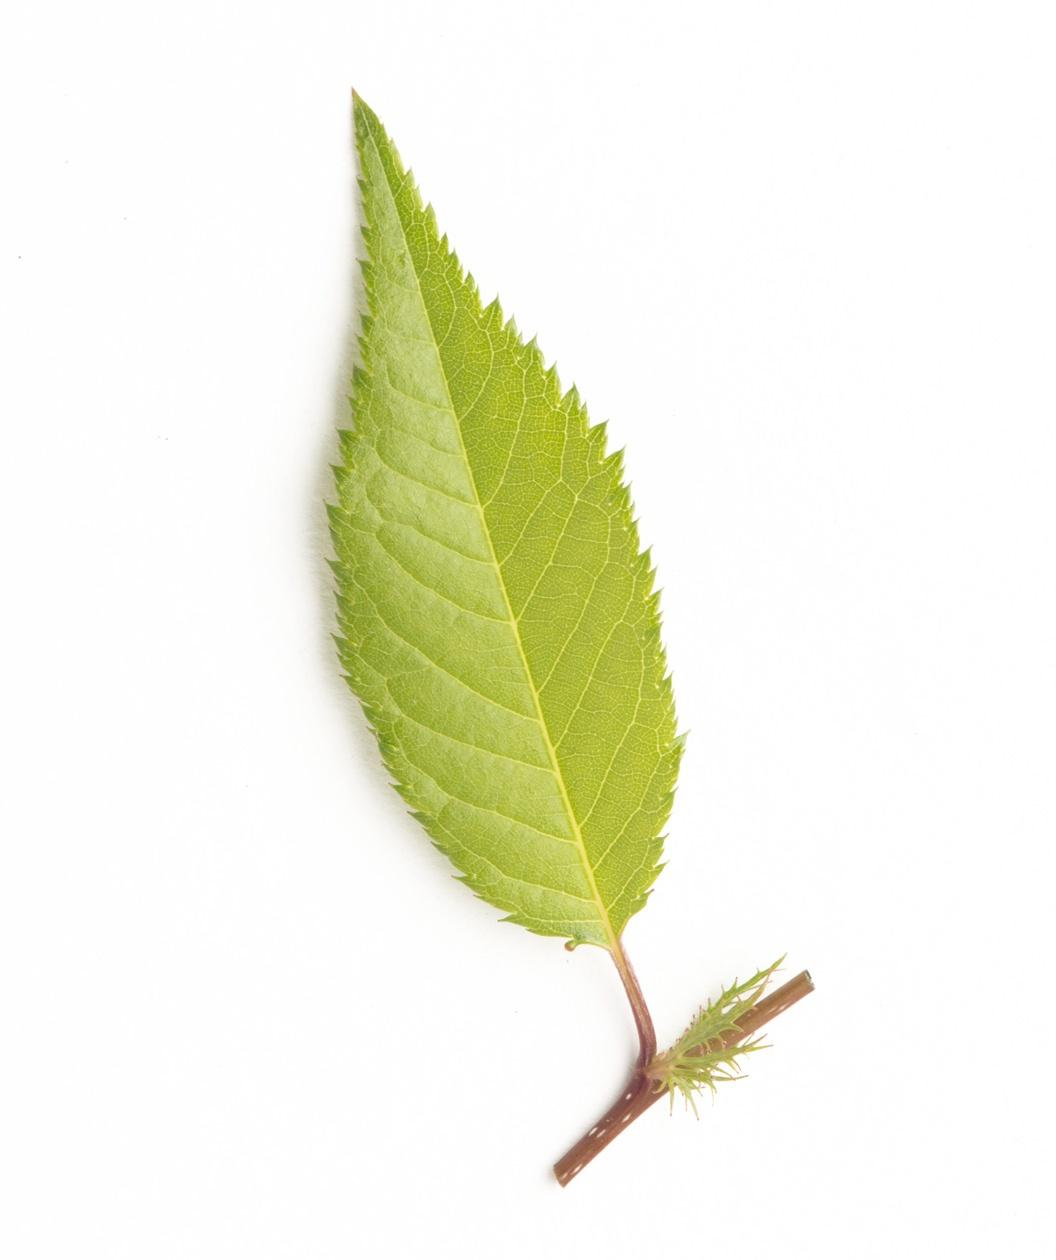Cherry leaf: (300, 78, 762, 967)
